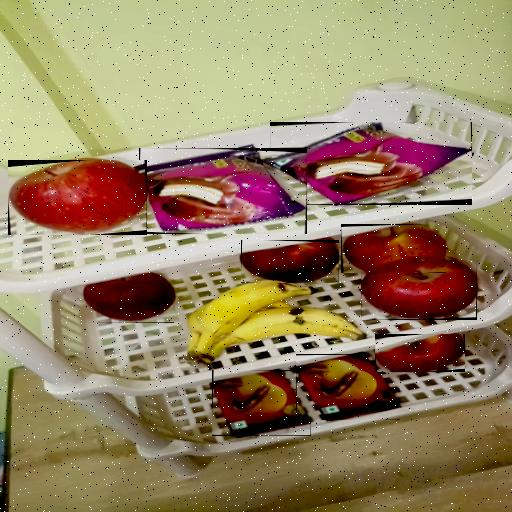Apple: (8, 160, 147, 235), (361, 260, 477, 320), (341, 224, 446, 273), (82, 273, 174, 323), (241, 240, 339, 283), (375, 334, 465, 372)
Choco Fills: (296, 354, 400, 420), (212, 370, 311, 436)
Choco Pie: (270, 122, 472, 205), (139, 148, 307, 234)
